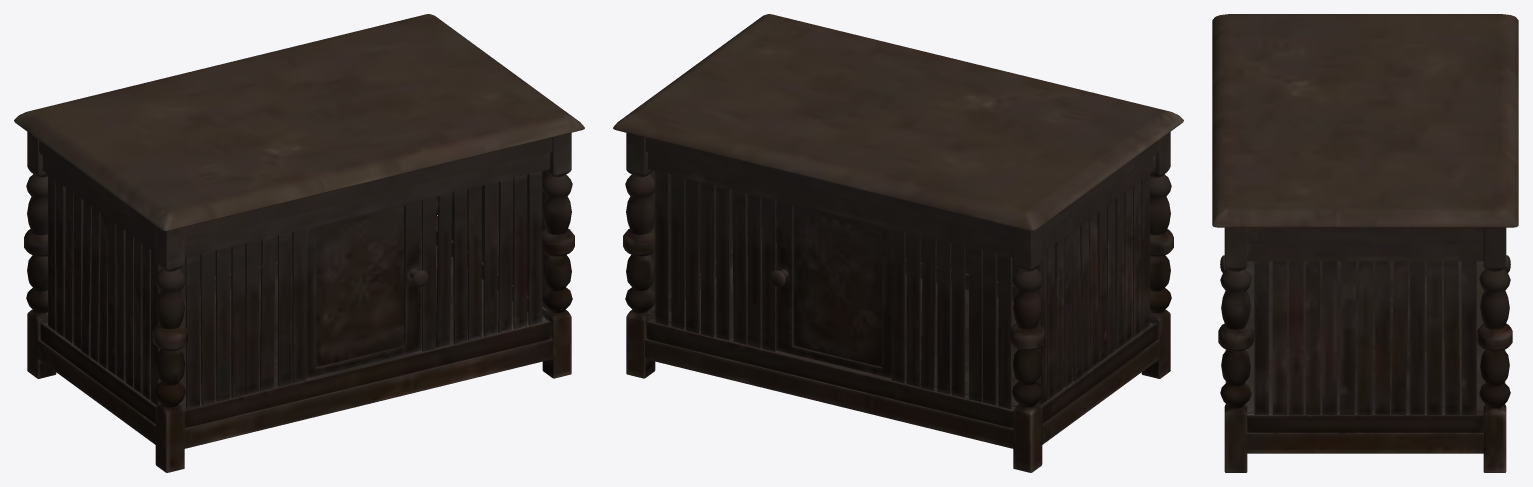
Rendered from ph-gallinera_table.glb.
3 views of the same model, side by side, from view 1: azimuth 30°, elevation 25°; view 2: azimuth 150°, elevation 25°; view 3: azimuth 270°, elevation 25° (orthographic).
Parts seen in each view (by area): view 1: gallinera_table; view 2: gallinera_table; view 3: gallinera_table.
Boxes of the visible parts, left/top/right/bottom form: gallinera_table: left=14, top=14, right=584, bottom=472; gallinera_table: left=613, top=14, right=1183, bottom=472; gallinera_table: left=1212, top=14, right=1518, bottom=472.
Bounding box in the file's own units: 1 × 0.5876 × 0.6244.
1 material, 1 textured.
